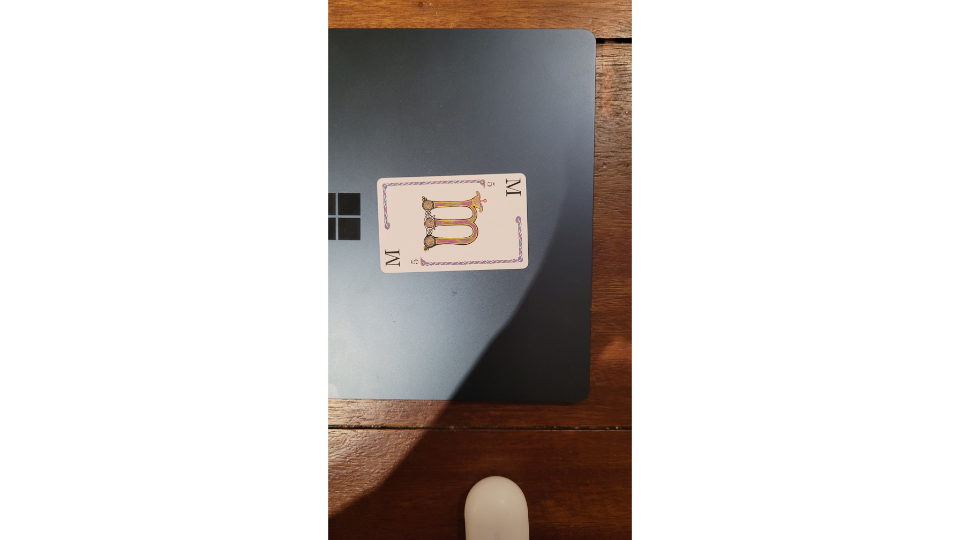M: (373, 169, 534, 275)
